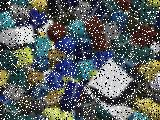Right: (84, 58, 140, 117)
